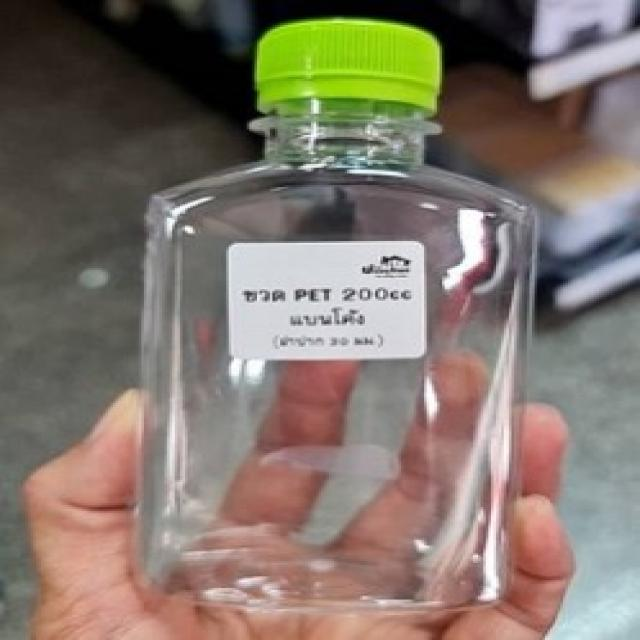plastic: (145, 20, 514, 612)
